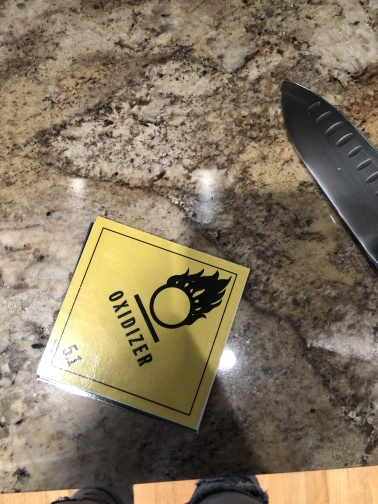Oxidizer: (38, 216, 250, 430)
